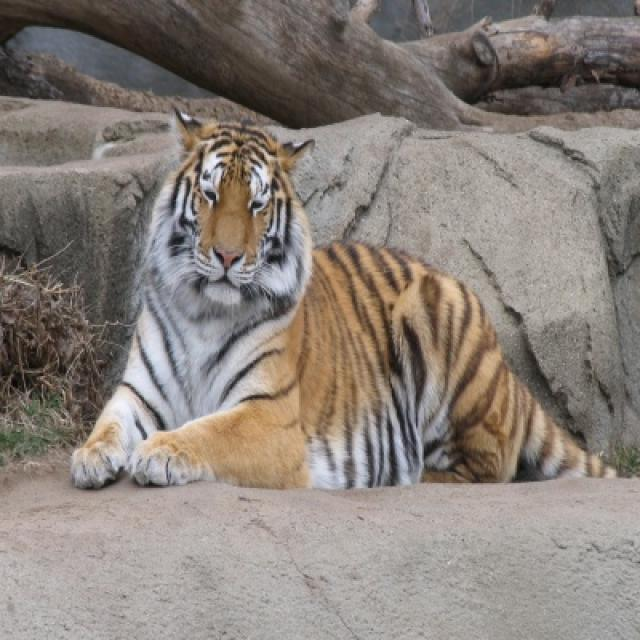Tiger: (69, 120, 628, 486)
